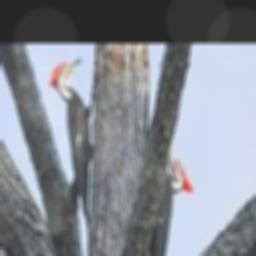Woodpecker: (50, 57, 97, 229), (145, 141, 193, 256)
